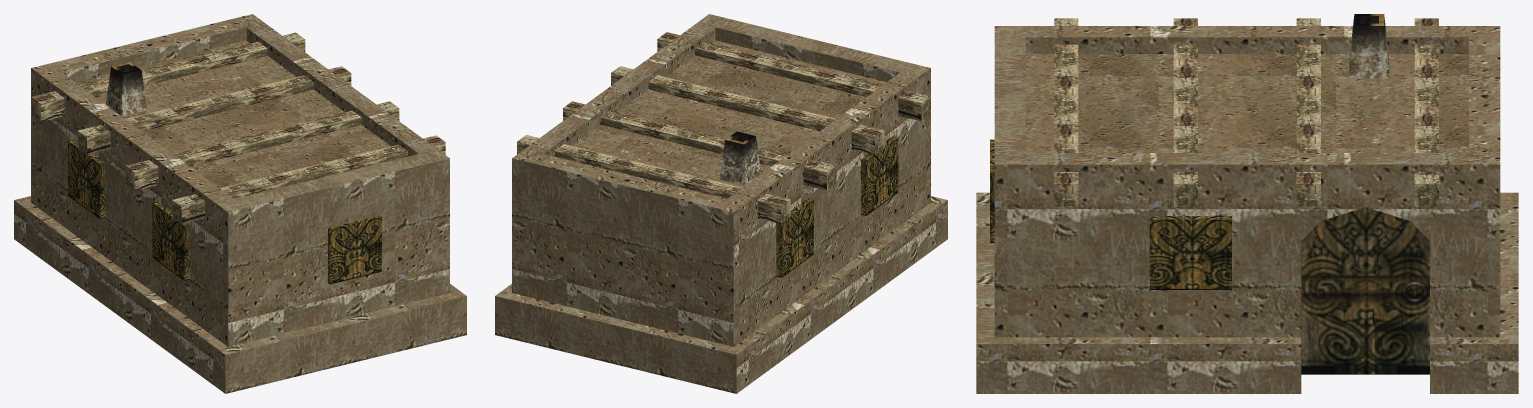
The model's file is House01.obj.
3 views of the same model, side by side, from view 1: azimuth 30°, elevation 25°; view 2: azimuth 150°, elevation 25°; view 3: azimuth 270°, elevation 25° (orthographic). The views are drawn at different scales.
Parts seen in each view (by area): view 1: Mesh_1, Mesh_3, Mesh_0; view 2: Mesh_1, Mesh_3, Mesh_0; view 3: Mesh_1, Mesh_0, Mesh_3, Mesh_2.
Boxes of the visible parts, bbox=[...] form: Mesh_1: bbox=[14, 14, 466, 393]; Mesh_3: bbox=[31, 32, 445, 284]; Mesh_0: bbox=[75, 40, 390, 187]; Mesh_1: bbox=[495, 14, 947, 393]; Mesh_3: bbox=[517, 32, 930, 277]; Mesh_0: bbox=[571, 40, 886, 187]; Mesh_1: bbox=[976, 26, 1518, 393]; Mesh_0: bbox=[1026, 54, 1468, 152]; Mesh_3: bbox=[990, 14, 1438, 289]; Mesh_2: bbox=[1301, 207, 1429, 374].
Size of the model in its own units: 4.35 by 3.15 by 6.03.
4 materials, 4 textured.
